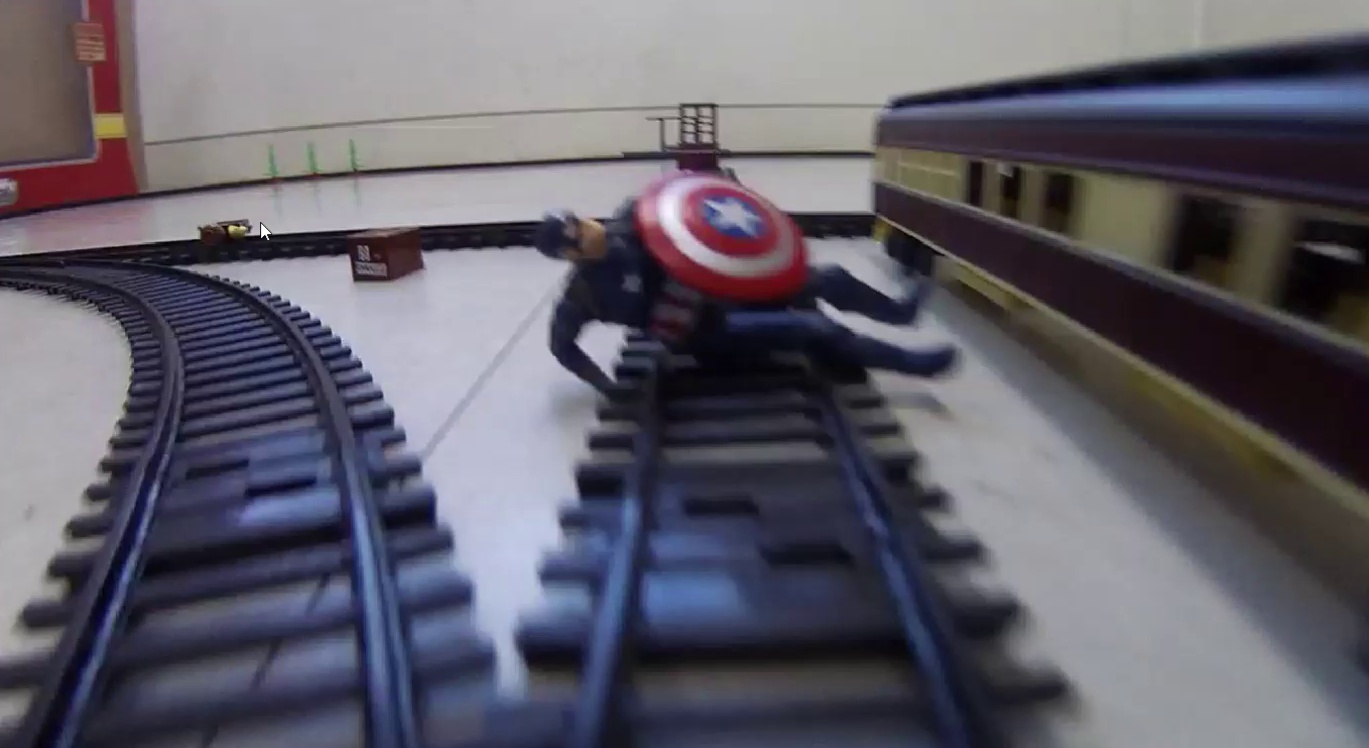box: (350, 230, 423, 279)
people: (549, 170, 957, 399)
